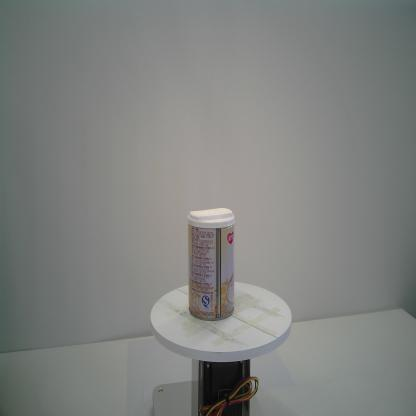Canned Food: (186, 205, 236, 323)
